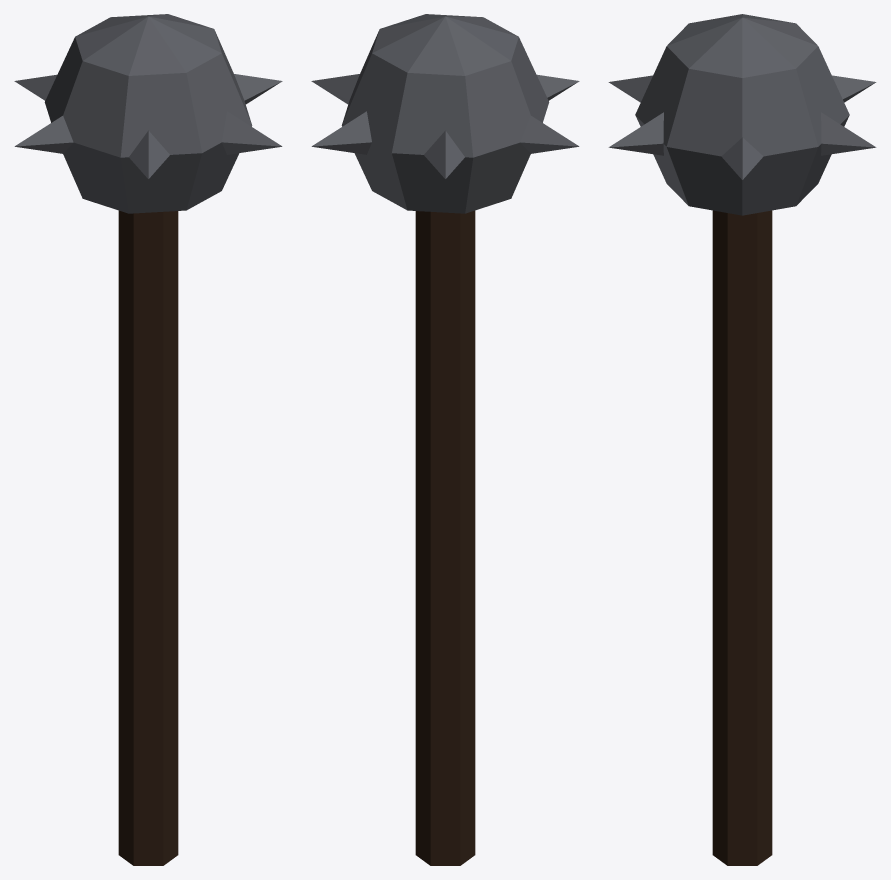
Rendered from wpn_mace.glb.
3 views of the same model, side by side, from view 1: azimuth 30°, elevation 25°; view 2: azimuth 150°, elevation 25°; view 3: azimuth 270°, elevation 25° (orthographic).
Parts seen in each view (by area): view 1: wpn_mace; view 2: wpn_mace; view 3: wpn_mace.
Part boxes in pixels (x1=…): wpn_mace: x1=14, y1=14, x2=282, y2=865; wpn_mace: x1=311, y1=14, x2=579, y2=865; wpn_mace: x1=608, y1=14, x2=876, y2=865.
Bounding box in the file's own units: 0.26 × 0.775 × 0.2252.
